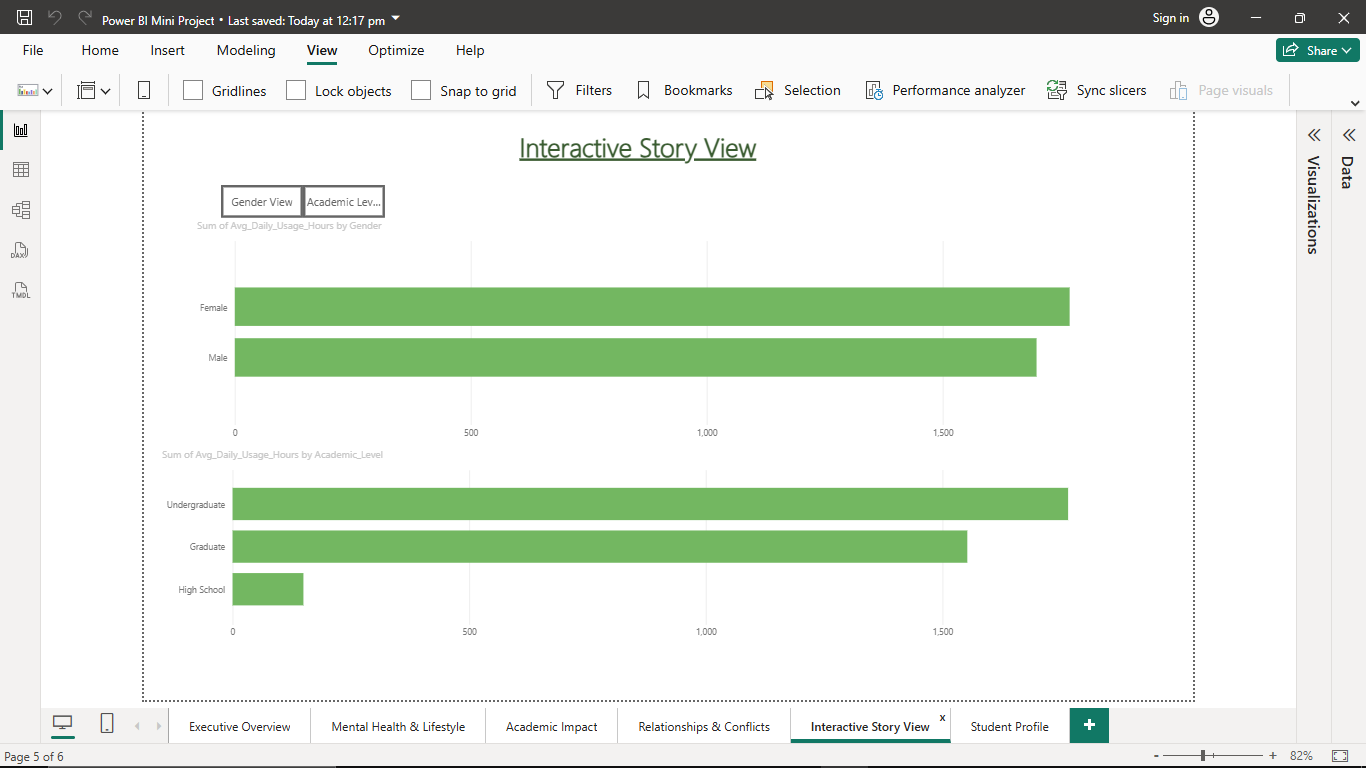

The page's visual inventory and layout, read from the dashboard file:
{"tool":"powerbi","page":{"name":"Interactive Story View","canvas":[1280,720],"ordinal":4},"visuals":[{"type":"clusteredBarChart","fields":{"Y":["Sum(Platform Details.Avg_Daily_Usage_Hours)"],"Category":["Student Details.Gender"]},"box":[60,131.4,1105.7,280],"z":0},{"type":"clusteredBarChart","fields":{"Y":["Sum(Platform Details.Avg_Daily_Usage_Hours)"],"Category":["Student Details.Academic_Level"]},"box":[17.1,411.4,1148.6,244.3],"z":1000},{"type":"actionButton","box":[94.3,91.4,100,40],"z":2000},{"type":"actionButton","box":[194.3,91.4,100,40],"z":3000},{"type":"textbox","box":[60,17.1,1085.7,60],"z":4000}]}

Visuals, with their boxes on the page's 1280x720 design canvas (x1, y1, x2, y2). These are canvas units, not pixel positions in the 1366x768 screenshot, which may show the page scaled, cropped or inside an application window:
clusteredBarChart - Sum(Platform Details.Avg_Daily_Usage_Hours) x Student Details.Gender: x1=60, y1=131, x2=1166, y2=411
clusteredBarChart - Sum(Platform Details.Avg_Daily_Usage_Hours) x Student Details.Academic_Level: x1=17, y1=411, x2=1166, y2=656
actionButton: x1=94, y1=91, x2=194, y2=131
actionButton: x1=194, y1=91, x2=294, y2=131
textbox: x1=60, y1=17, x2=1146, y2=77
